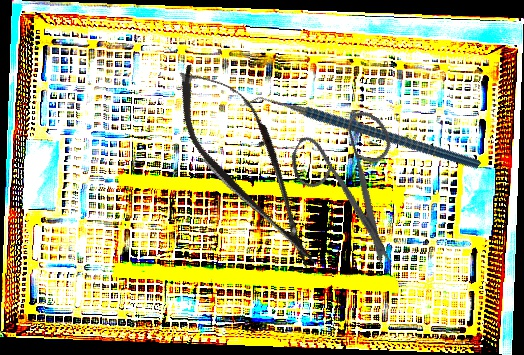Chopper: (239, 27, 482, 241)
Iris Scissors: (264, 89, 453, 275)
Micro Scissor: (156, 47, 342, 284)
